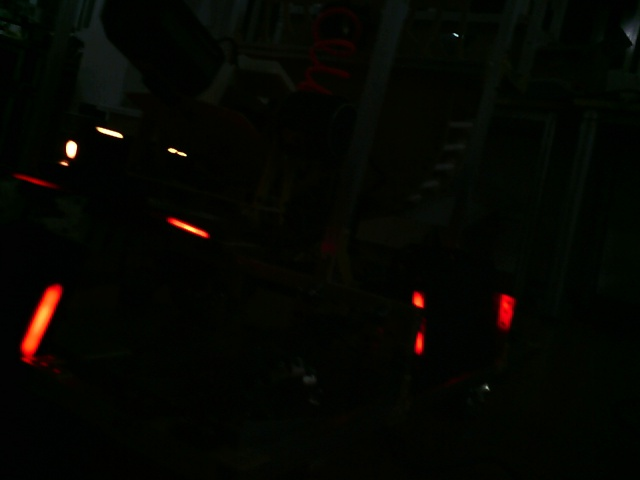lamp: (19, 282, 63, 361)
